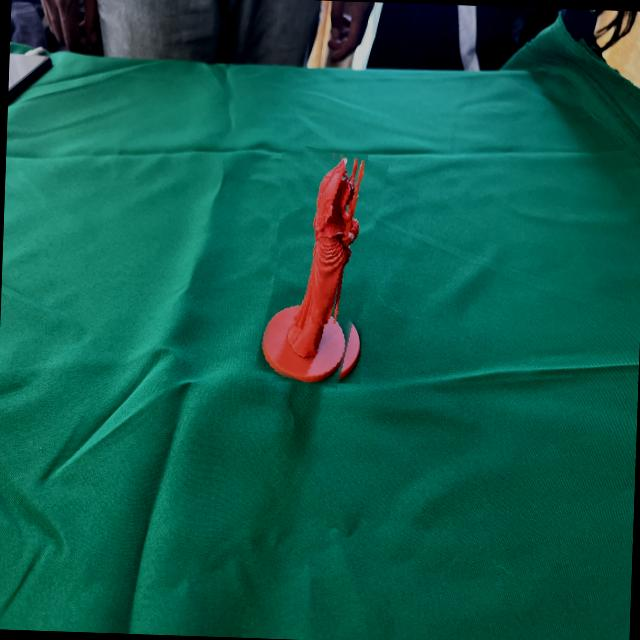amon: (264, 148, 378, 388)
